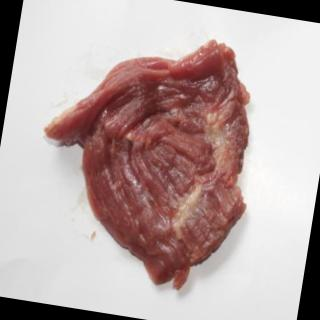Daging Sapi: (24, 19, 273, 305)
